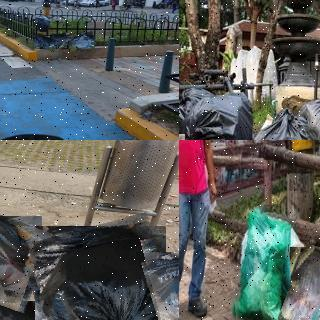Garbage: (27, 219, 173, 320), (228, 204, 294, 320), (0, 209, 47, 307), (189, 91, 252, 140), (283, 245, 320, 320), (146, 248, 179, 320), (251, 105, 309, 140), (179, 82, 212, 140), (289, 92, 320, 140), (67, 33, 95, 51), (33, 34, 58, 51), (50, 34, 71, 50), (36, 15, 50, 32)
